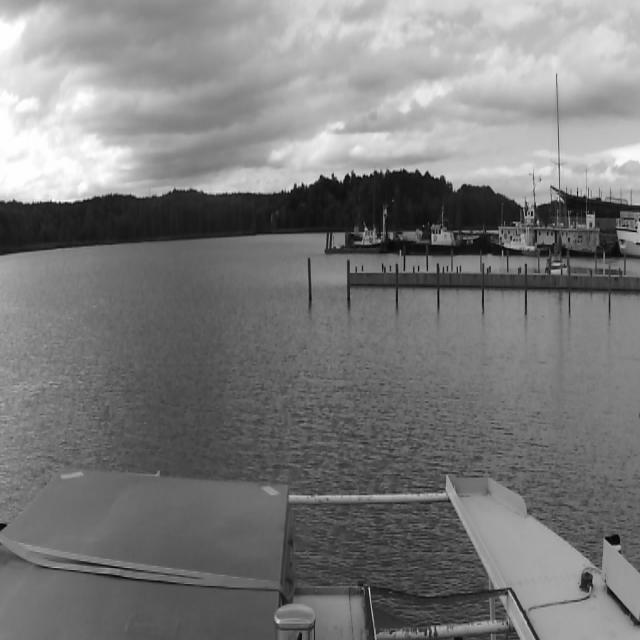ship: (545, 74, 567, 272), (396, 223, 488, 253), (342, 205, 389, 252), (345, 226, 385, 255), (492, 228, 536, 254)
